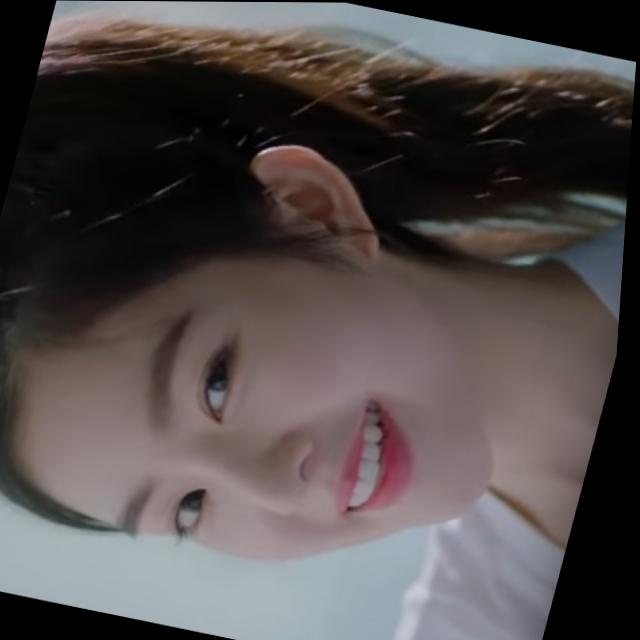face: (0, 94, 578, 610)
